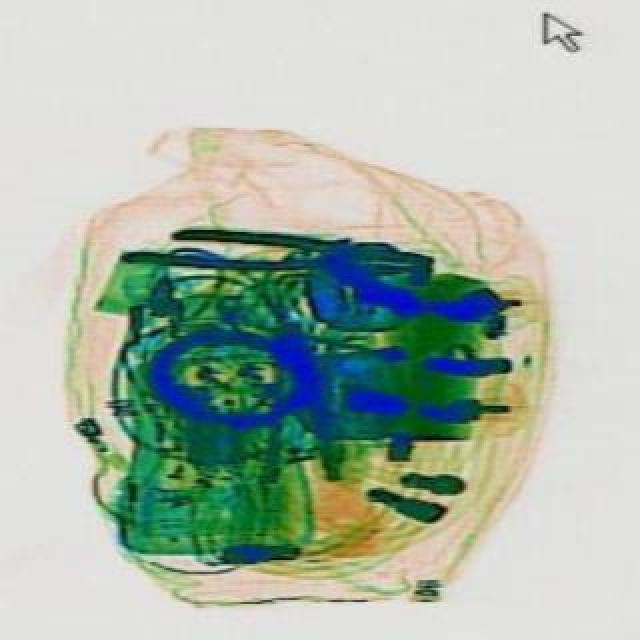wrench: (114, 220, 430, 280)
